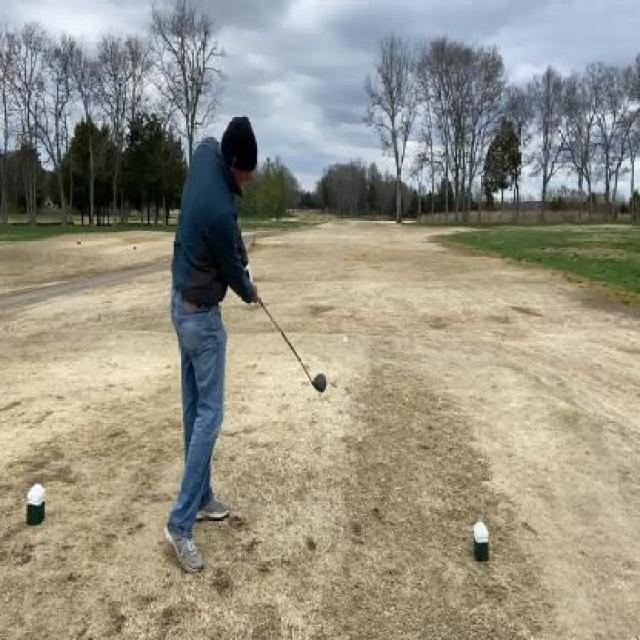club head: (307, 372, 327, 394)
